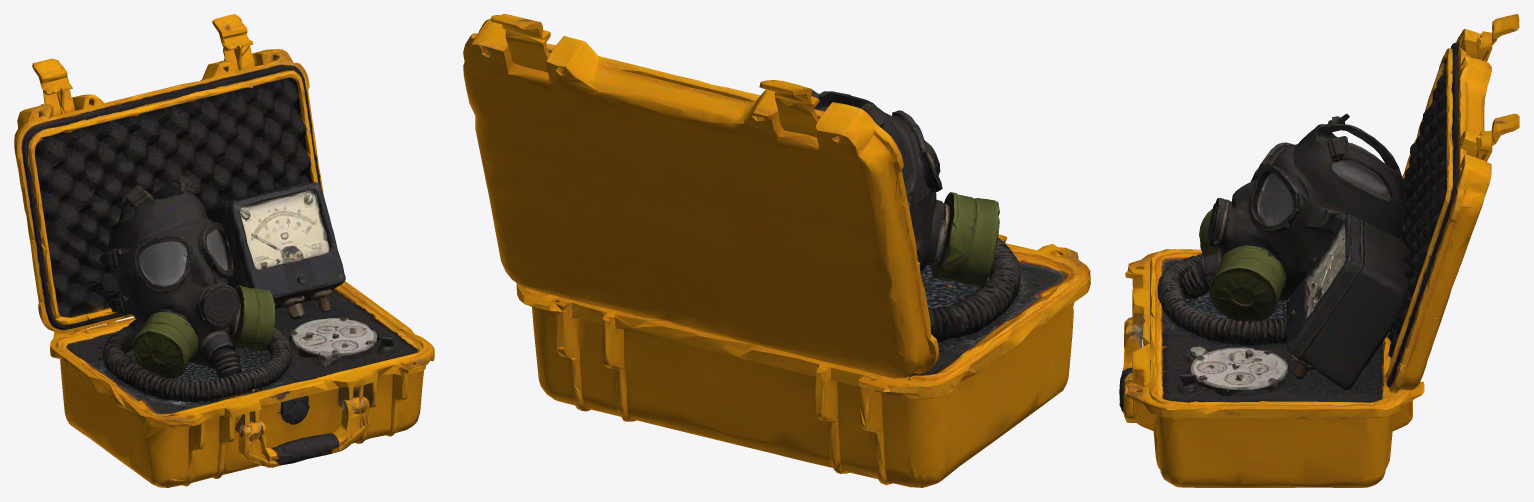
Rendered from objet-combinaison.glb.
3 views of the same model, side by side, from view 1: azimuth 30°, elevation 25°; view 2: azimuth 150°, elevation 25°; view 3: azimuth 270°, elevation 25° (orthographic). The views are drawn at different scales.
Bounding box in the file's own units: 0.9309 × 0.95 × 0.9779.
Materials: 1 (1 with a texture image).
